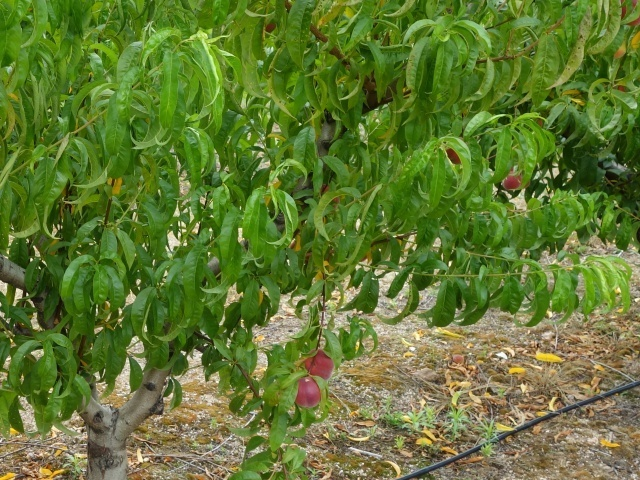peach: (288, 371, 329, 414), (300, 343, 340, 385), (498, 168, 529, 196)
